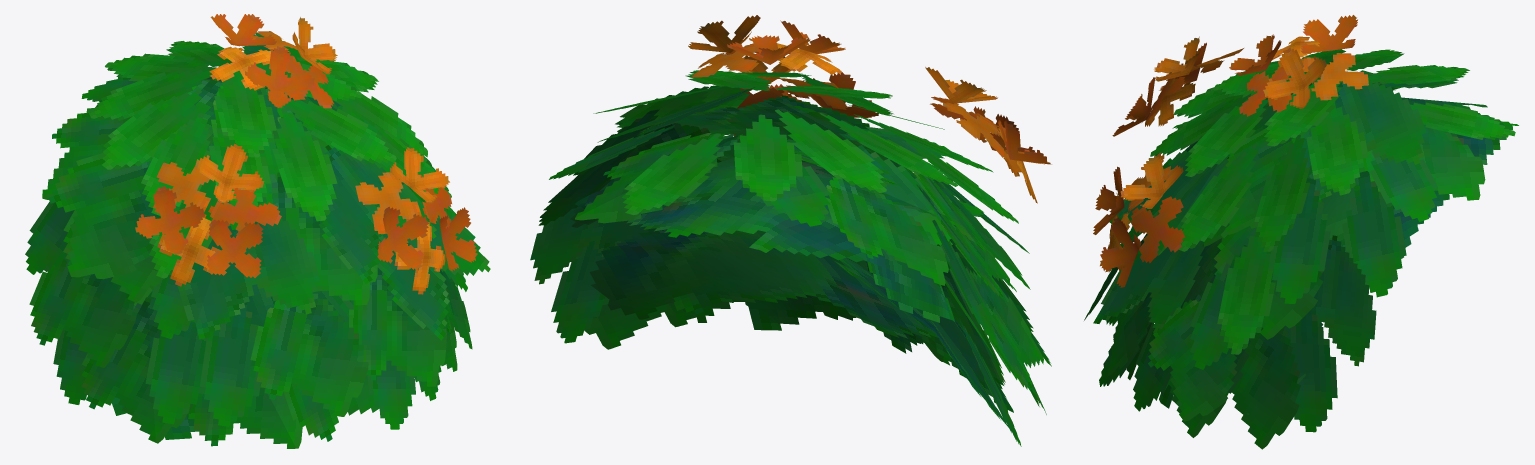
The model's file is bush-orange-tea-olive.glb.
3 views of the same model, side by side, from view 1: azimuth 30°, elevation 25°; view 2: azimuth 150°, elevation 25°; view 3: azimuth 270°, elevation 25° (orthographic). The views are drawn at different scales.
Size of the model in its own units: 10.61 by 8.69 by 9.85.
2 materials, 2 textured.
